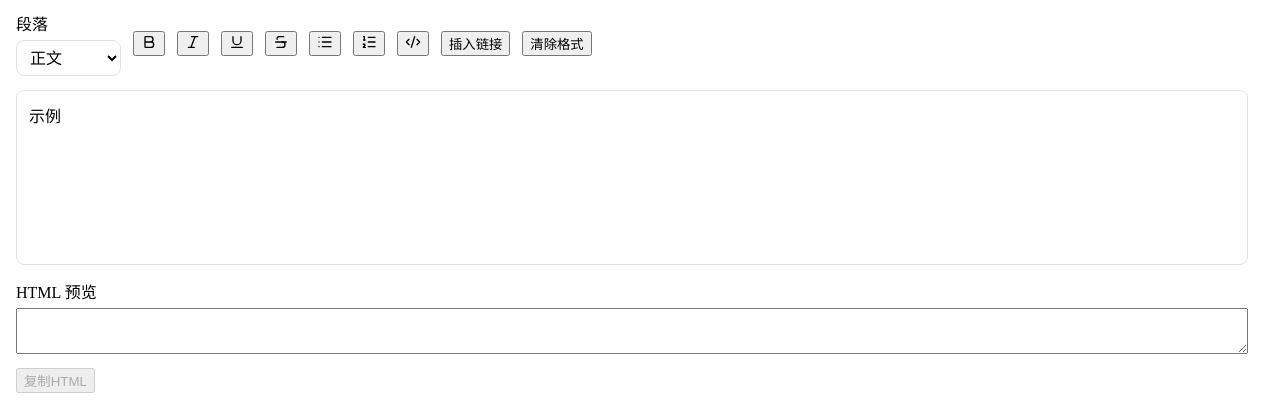
Test: developer and text tools › exports editable rich text as HTML
Clear the field named "富文本": (632, 178) [16,90,1248,265]
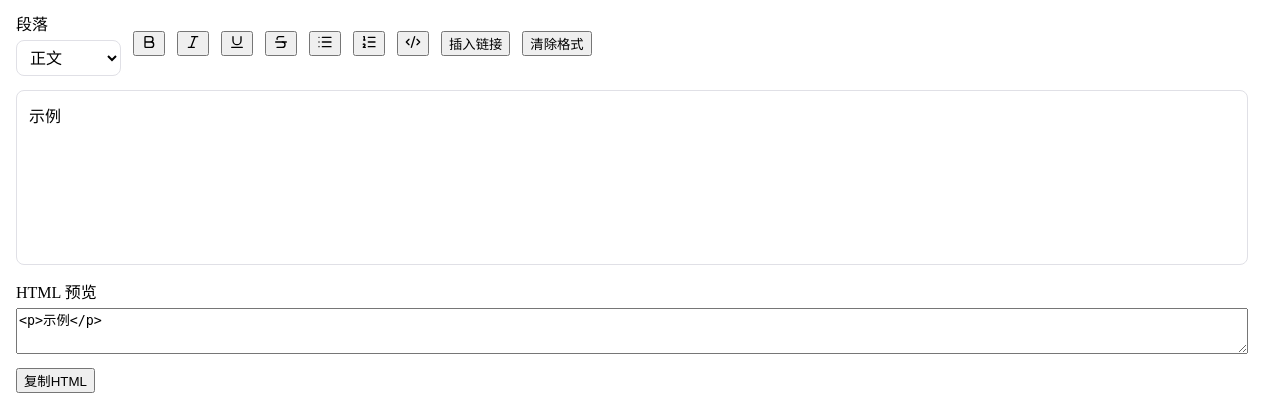
Check: the text box labelled "HTML 预览" holds "<p>示例</p>", box [16,308,1248,354]
